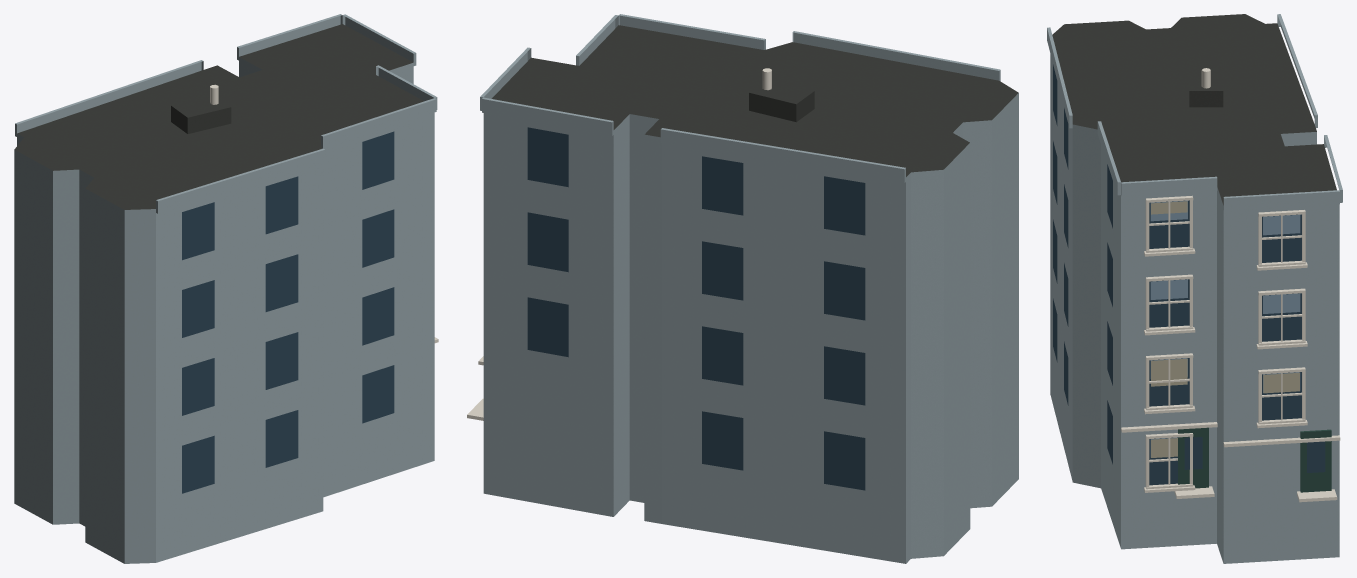
The picture shows the model from 3 angles, left to right: view 1: azimuth 30°, elevation 25°; view 2: azimuth 150°, elevation 25°; view 3: azimuth 270°, elevation 25°; orthographic projection. The views are drawn at different scales.
Visible parts, largest first — view 1: Footprint 0 / surface 2, Footprint 0 / surface 1, Inset glazing, Facade bay volumes, Inferred rooftop service enclosure / surface 5, Inferred rooftop service enclosure / surface 3; view 2: Footprint 0 / surface 2, Footprint 0 / surface 1, Inset glazing, Facade bay volumes, Inferred rooftop service enclosure / surface 6, Inferred rooftop service enclosure / surface 3; view 3: Footprint 0 / surface 2, Footprint 0 / surface 1, Inset glazing, Cornices and window frames, Facade bay volumes, Sky reflection panels, Interior blind variation, Storefronts and doors, Inferred rooftop service enclosure / surface 3, Inferred rooftop service enclosure / surface 1.
Boxes of the visible parts, x1,y1,x2,y2 form: Footprint 0 / surface 2: (14, 57, 434, 563); Footprint 0 / surface 1: (14, 24, 423, 209); Inset glazing: (182, 131, 394, 493); Facade bay volumes: (15, 14, 437, 213); Inferred rooftop service enclosure / surface 5: (187, 107, 231, 133); Inferred rooftop service enclosure / surface 3: (171, 96, 230, 117); Footprint 0 / surface 2: (483, 93, 1018, 563); Footprint 0 / surface 1: (492, 25, 1018, 176); Inset glazing: (527, 127, 865, 490); Facade bay volumes: (480, 14, 1000, 182); Inferred rooftop service enclosure / surface 6: (749, 93, 796, 121); Inferred rooftop service enclosure / surface 3: (749, 80, 814, 104); Footprint 0 / surface 2: (1050, 54, 1339, 563); Footprint 0 / surface 1: (1052, 14, 1336, 205); Inset glazing: (1053, 64, 1325, 485); Cornices and window frames: (1121, 195, 1340, 502); Facade bay volumes: (1047, 14, 1342, 210); Sky reflection panels: (1150, 200, 1300, 457); Interior blind variation: (1151, 201, 1299, 457); Storefronts and doors: (1178, 427, 1331, 492); Inferred rooftop service enclosure / surface 3: (1189, 69, 1223, 90); Inferred rooftop service enclosure / surface 1: (1189, 91, 1223, 107).
Size of the model in its own units: 16.34 by 15.27 by 10.46.
